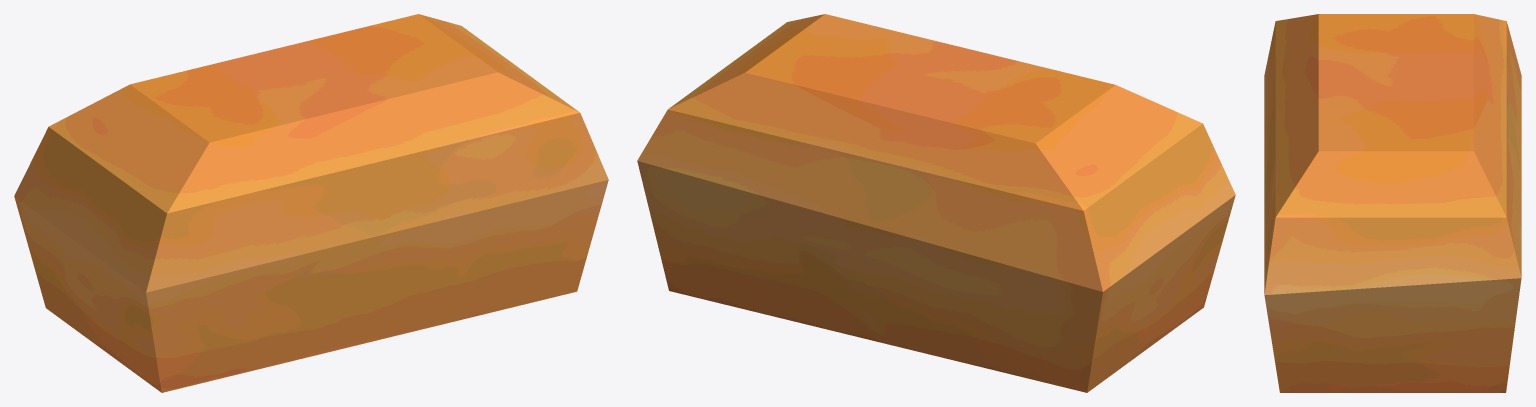
File: Bread.fbx
3 views of the same model, side by side, from view 1: azimuth 30°, elevation 25°; view 2: azimuth 150°, elevation 25°; view 3: azimuth 270°, elevation 25° (orthographic). The views are drawn at different scales.
Visible parts, largest first — view 1: Bread; view 2: Bread; view 3: Bread.
Boxes of the visible parts, box(x1,y1,x2,y2) form: Bread: box(14, 14, 608, 392); Bread: box(637, 14, 1235, 392); Bread: box(1264, 14, 1521, 392).
Size of the model in its own units: 180 by 81.45 by 88.83.
